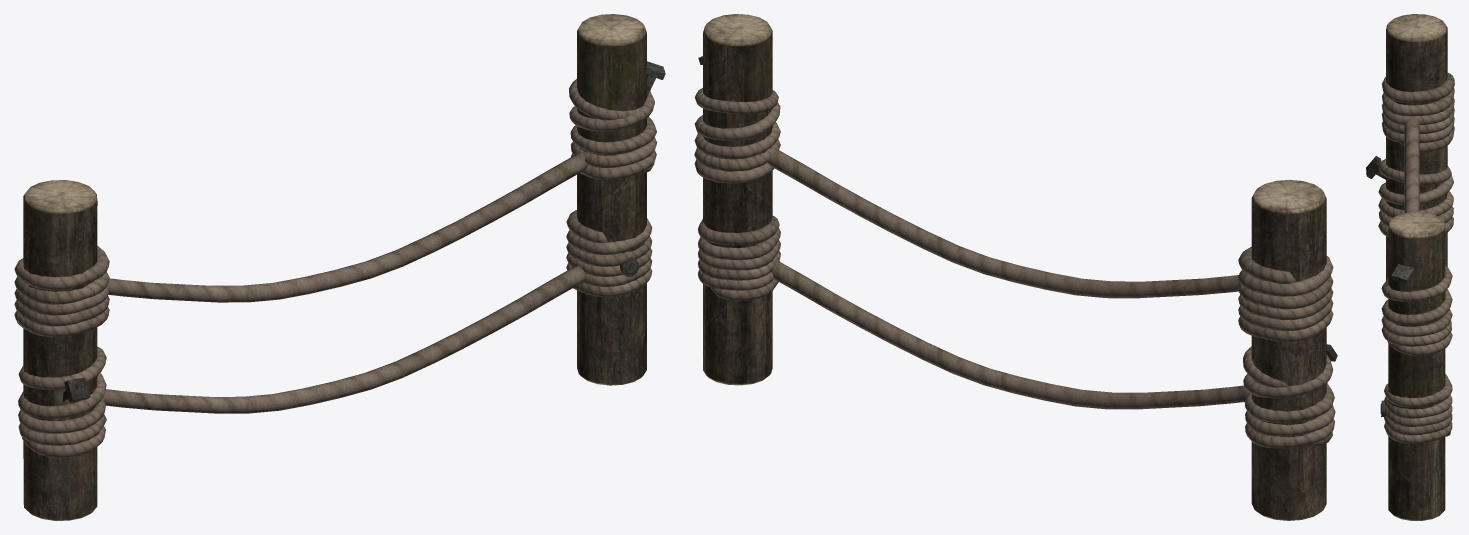
Rendered from rope_fence07.fbx.
3 renders of one model, left to right at view 1: azimuth 30°, elevation 25°; view 2: azimuth 150°, elevation 25°; view 3: azimuth 270°, elevation 25°, orthographic. The views are drawn at different scales.
Parts seen in each view (by area): view 1: rope_fence07; view 2: rope_fence07; view 3: rope_fence07.
Boxes of the visible parts, x1,y1,x2,y2 form: rope_fence07: (14,14,665,520); rope_fence07: (694,14,1337,520); rope_fence07: (1366,14,1454,520).
Size of the model in its own units: 292 by 151 by 42.42.
